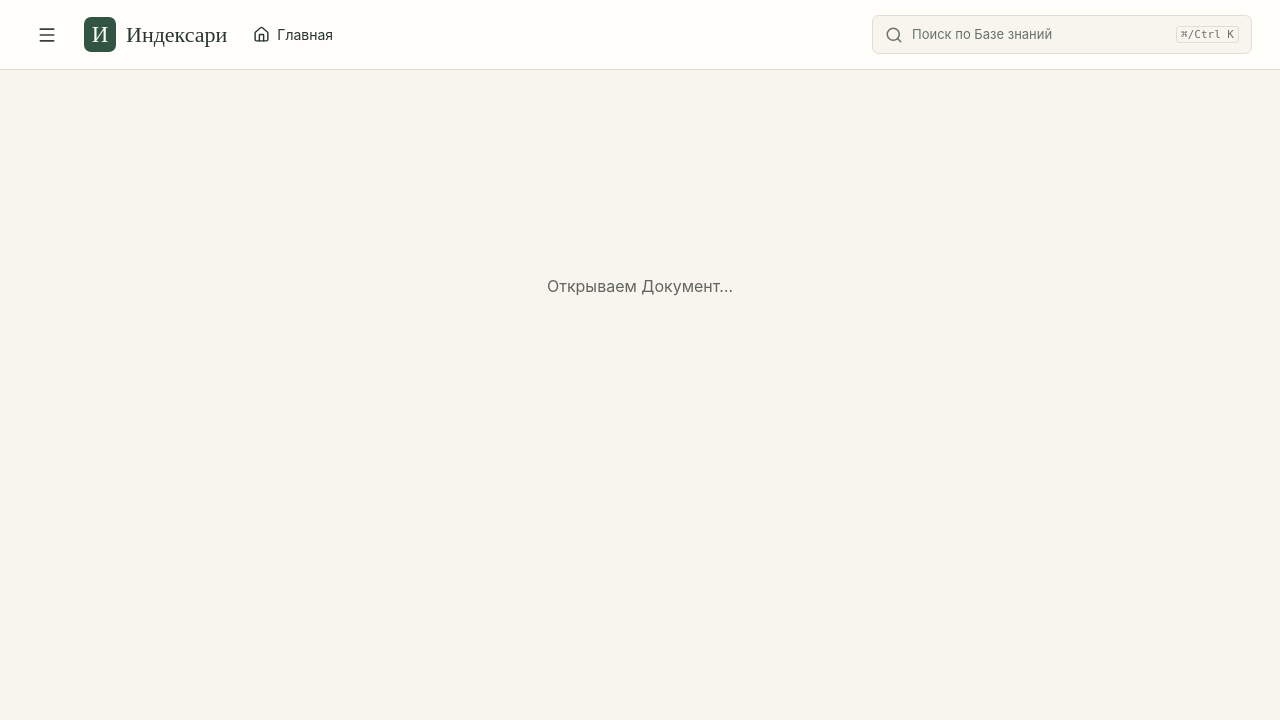
Test: Atlas › opens search globally and renders highlighted snippets as inert text
Press k
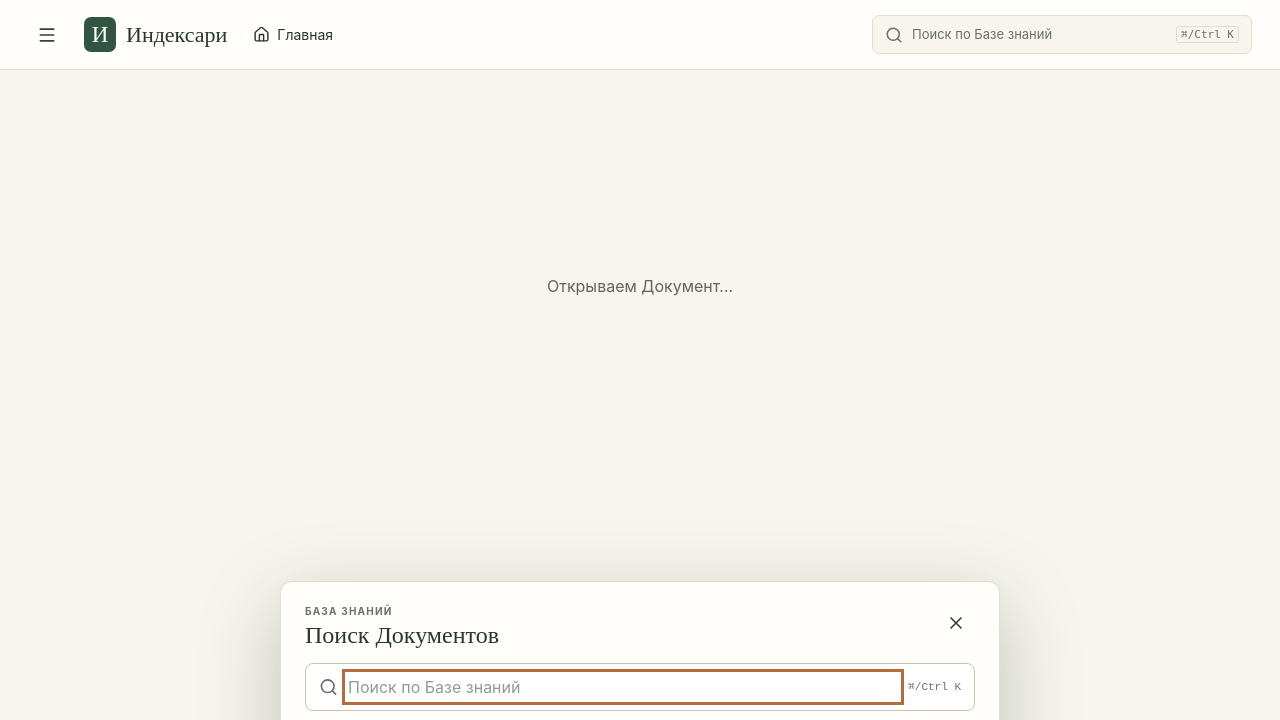
Type "onerror" into the search field with placeholder "Поиск по Базе знаний".
click(623, 687); type("onerror")  # box [348,675,898,699]
(page scrolled)
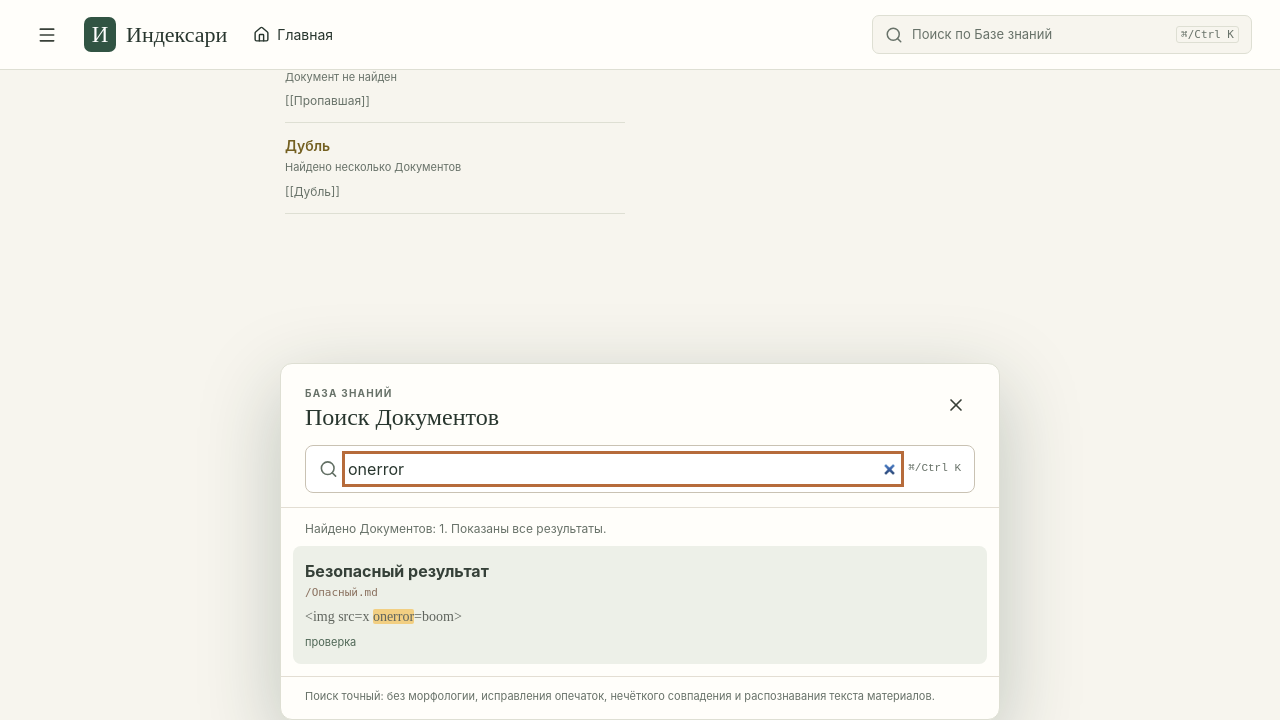
Now the text "<img src=x" is shown, box [305,609,373,624]
